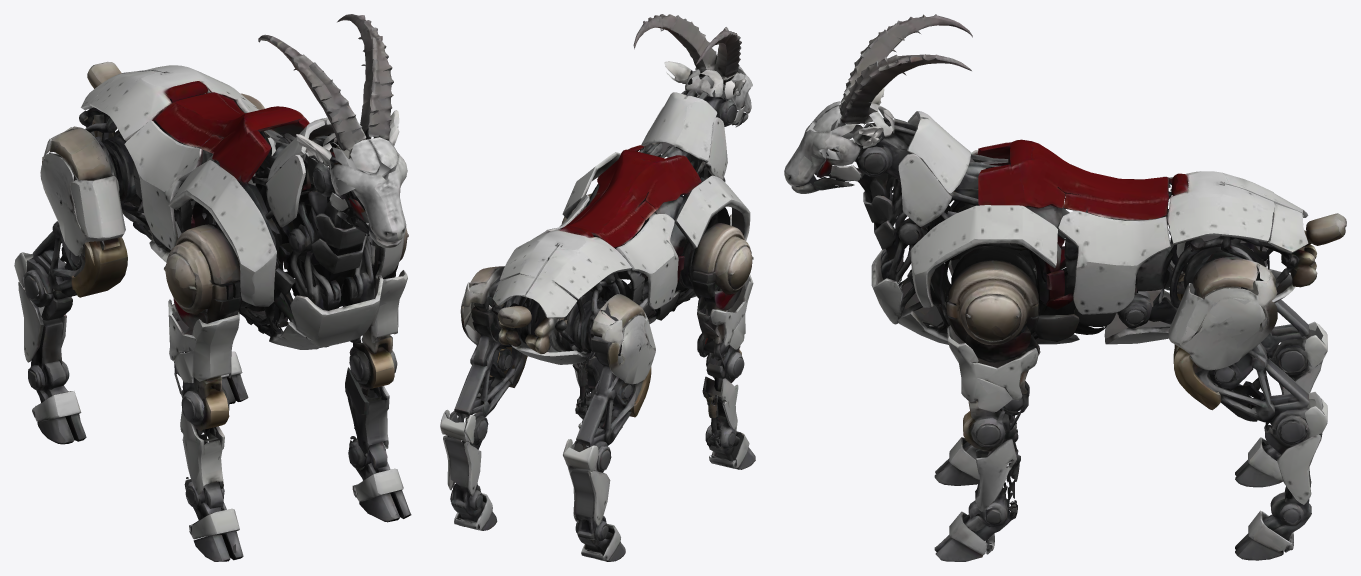
3 views of the same model, side by side, from view 1: azimuth 30°, elevation 25°; view 2: azimuth 150°, elevation 25°; view 3: azimuth 270°, elevation 25° (orthographic). The views are drawn at different scales.
Parts seen in each view (by area): view 1: part_000_FRONT_SHIN_L, part_002_REAR_THIGH_L, part_001_FRONT_PAW_R, part_010_HEAD_SENSOR, part_004_REAR_SHIN_L, part_023_SHOULDER_L, part_013_HEAD_SENSOR, part_008_FRONT_THIGH_L, part_021_HULL_CORE, part_025_REAR_THIGH_L, part_012_AFT_REACTOR, part_003_HULL_CORE (+16 smaller); view 2: part_000_FRONT_SHIN_L, part_004_REAR_SHIN_L, part_002_REAR_THIGH_L, part_021_HULL_CORE, part_007_REAR_SHIN_R, part_005_REAR_SHIN_R, part_012_AFT_REACTOR, part_008_FRONT_THIGH_L, part_019_DORSAL_MODULE, part_025_REAR_THIGH_L, part_023_SHOULDER_L, part_033_AFT_REACTOR (+21 smaller); view 3: part_001_FRONT_PAW_R, part_006_FRONT_THIGH_R, part_018_HULL_CORE, part_003_HULL_CORE, part_024_REAR_THIGH_R, part_007_REAR_SHIN_R, part_012_AFT_REACTOR, part_022_SHOULDER_R, part_005_REAR_SHIN_R, part_011_AFT_REACTOR, part_013_HEAD_SENSOR, part_019_DORSAL_MODULE (+19 smaller).
Boxes of the visible parts, box(x1,y1,x2,y2) form: part_000_FRONT_SHIN_L: box(168, 297, 243, 561); part_002_REAR_THIGH_L: box(40, 114, 137, 255); part_001_FRONT_PAW_R: box(341, 270, 411, 522); part_010_HEAD_SENSOR: box(248, 134, 368, 310); part_004_REAR_SHIN_L: box(14, 221, 127, 362); part_023_SHOULDER_L: box(168, 160, 276, 306); part_013_HEAD_SENSOR: box(330, 137, 407, 247); part_008_FRONT_THIGH_L: box(164, 224, 264, 322); part_021_HULL_CORE: box(155, 98, 288, 182); part_025_REAR_THIGH_L: box(124, 120, 202, 249); part_012_AFT_REACTOR: box(110, 65, 256, 141); part_003_HULL_CORE: box(252, 153, 383, 349); part_000_FRONT_SHIN_L: box(692, 274, 755, 469); part_004_REAR_SHIN_L: box(563, 321, 651, 525); part_002_REAR_THIGH_L: box(572, 283, 655, 388); part_021_HULL_CORE: box(588, 152, 701, 247); part_007_REAR_SHIN_R: box(440, 409, 497, 530); part_005_REAR_SHIN_R: box(450, 273, 527, 421); part_012_AFT_REACTOR: box(500, 225, 631, 280); part_008_FRONT_THIGH_L: box(675, 223, 753, 294); part_019_DORSAL_MODULE: box(639, 92, 717, 175); part_025_REAR_THIGH_L: box(616, 213, 678, 309); part_023_SHOULDER_L: box(675, 175, 750, 249); part_033_AFT_REACTOR: box(525, 263, 623, 318); part_001_FRONT_PAW_R: box(934, 325, 1040, 561); part_006_FRONT_THIGH_R: box(946, 246, 1039, 362); part_018_HULL_CORE: box(978, 149, 1169, 244); part_003_HULL_CORE: box(871, 168, 1103, 344); part_024_REAR_THIGH_R: box(1057, 210, 1170, 314); part_007_REAR_SHIN_R: box(1235, 392, 1327, 560); part_012_AFT_REACTOR: box(1167, 171, 1274, 244); part_022_SHOULDER_R: box(910, 205, 1057, 307); part_005_REAR_SHIN_R: box(1173, 272, 1309, 434); part_011_AFT_REACTOR: box(1114, 203, 1308, 326); part_013_HEAD_SENSOR: box(784, 101, 860, 193); part_019_DORSAL_MODULE: box(907, 111, 1008, 205).
Size of the model in its own units: 0.4369 by 0.9439 by 0.9984.
1 material, 1 textured.
